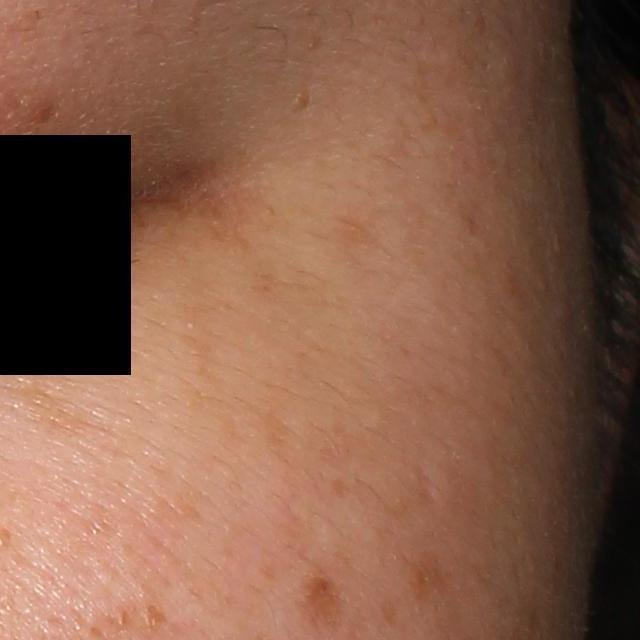melasma: (2, 372, 112, 441), (177, 303, 234, 385), (297, 571, 355, 637), (402, 550, 457, 606), (326, 213, 387, 263), (23, 93, 61, 133)
